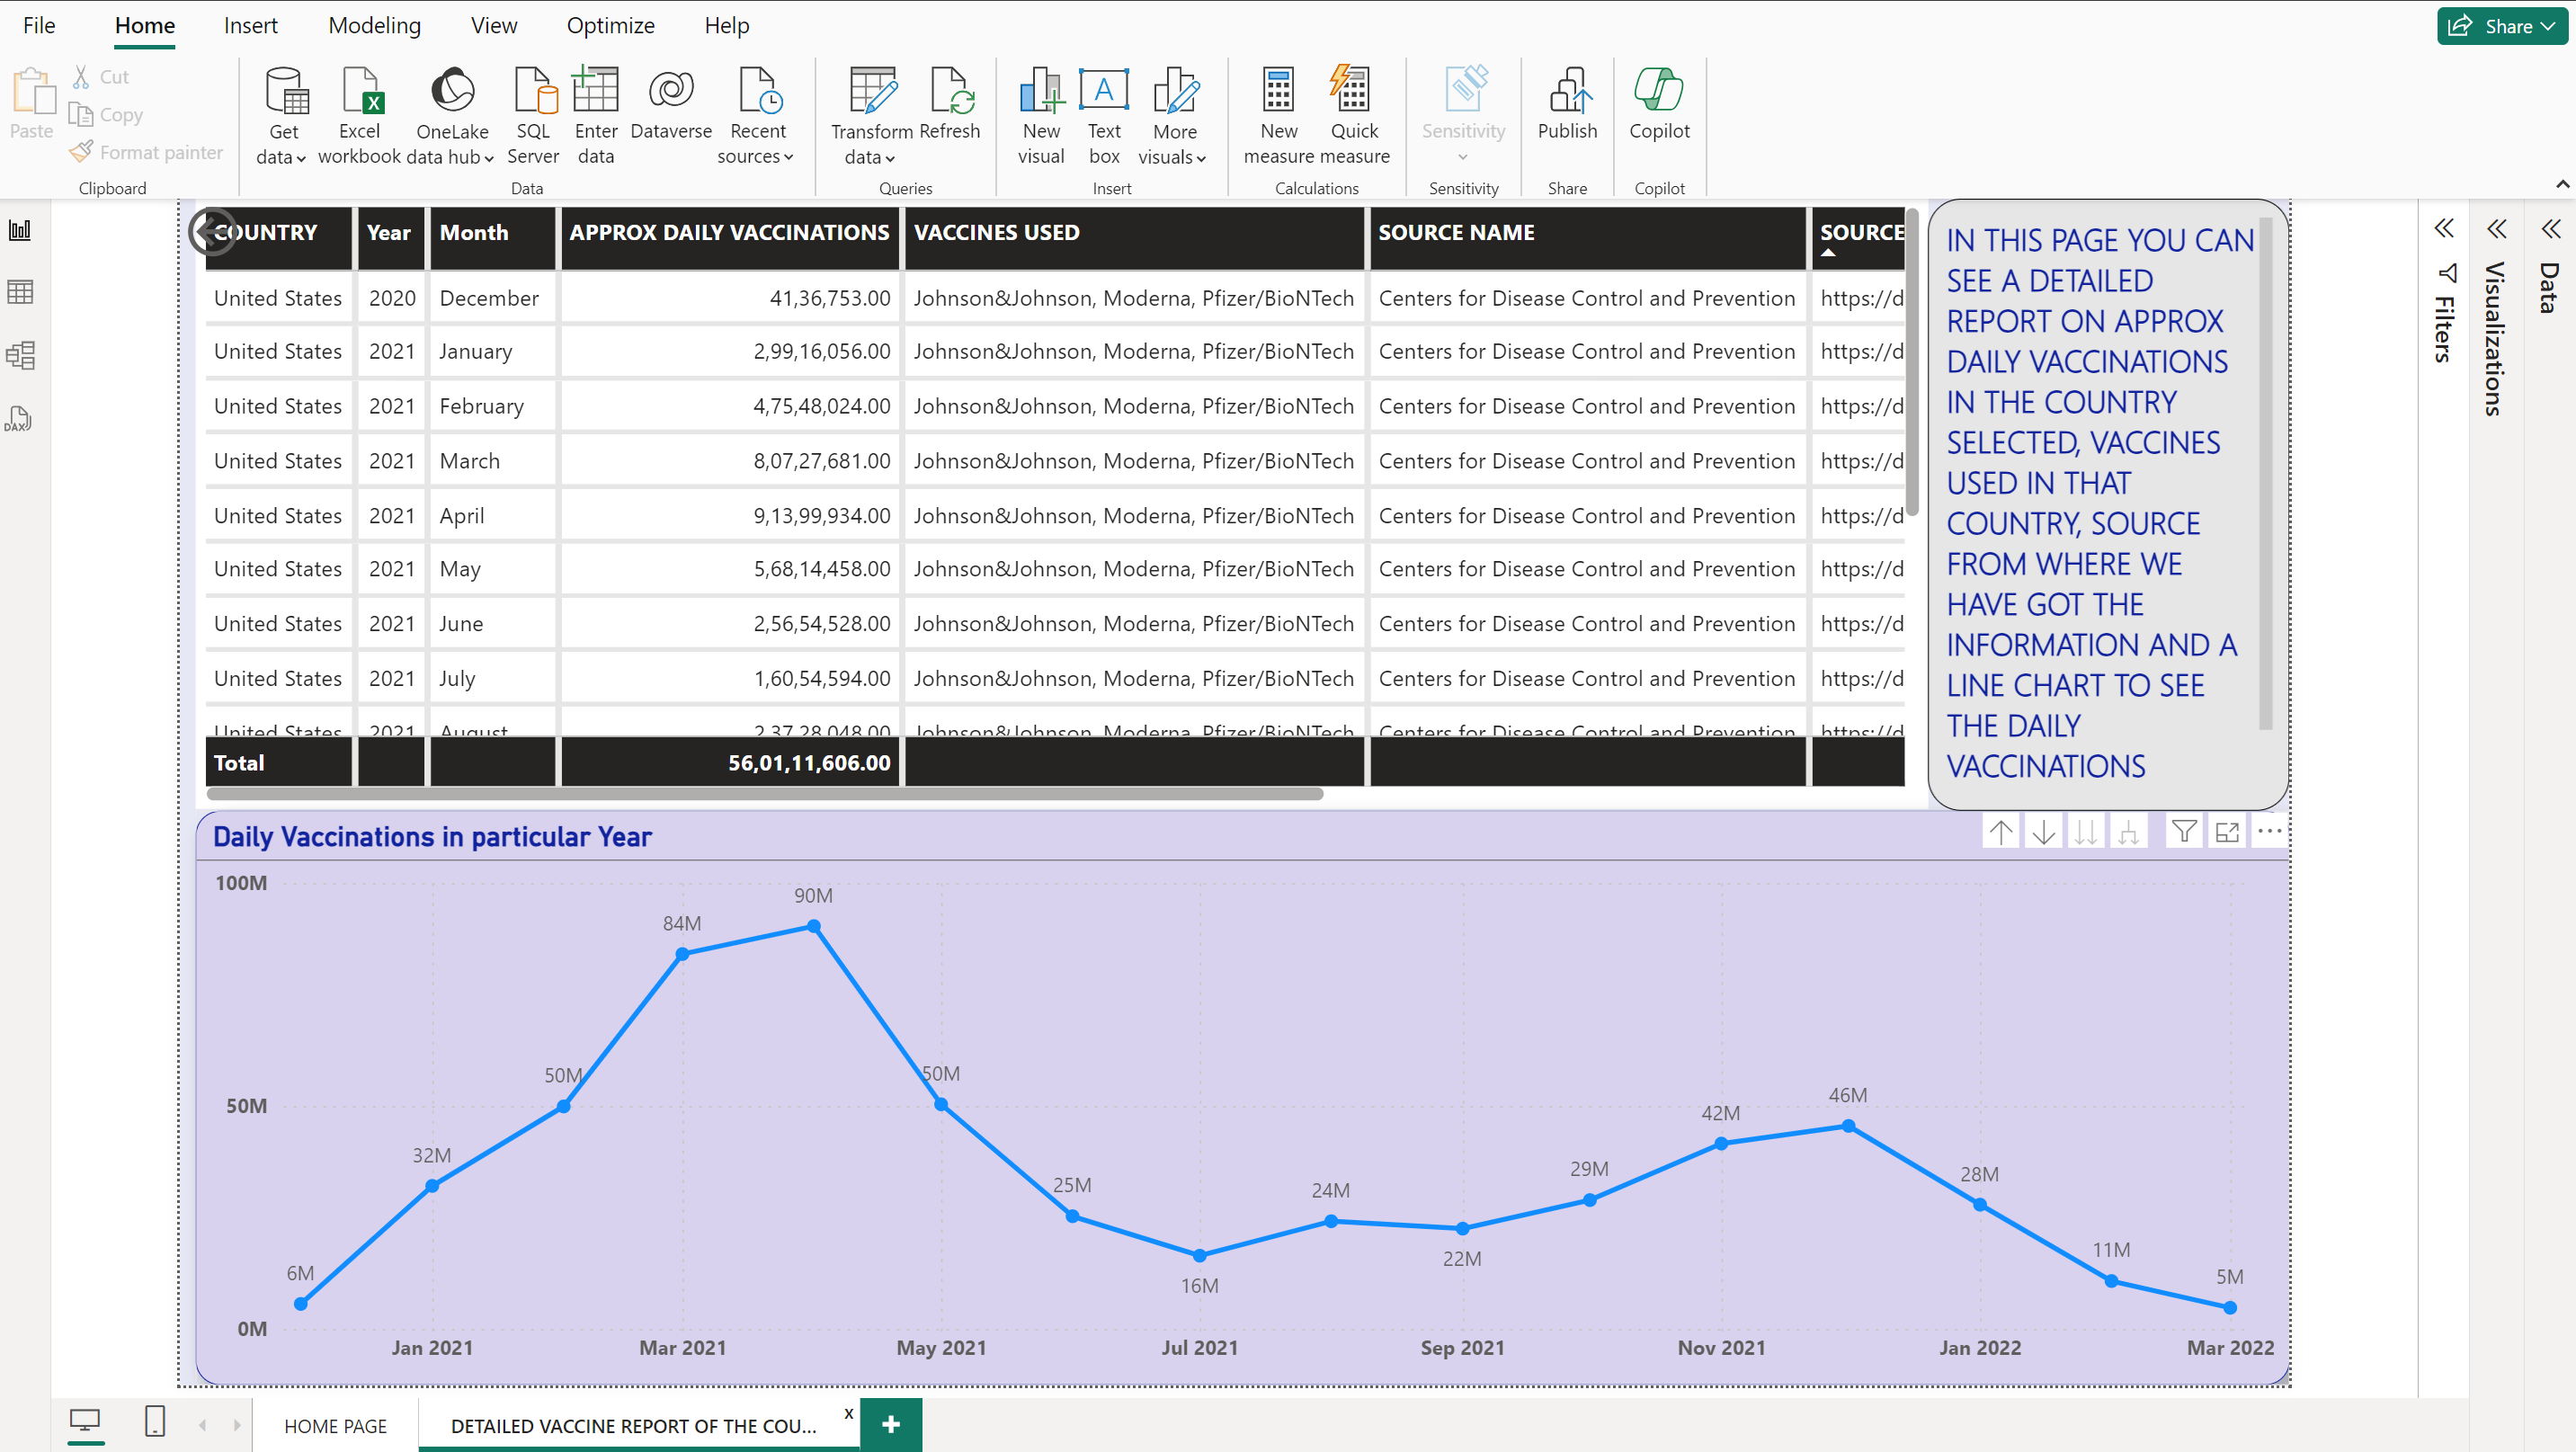

The dashboard page shown, as its layout file describes it:
{"tool":"powerbi","page":{"name":"DETAILED VACCINE REPORT OF THE COUNTRY","canvas":[1280,720],"ordinal":1},"visuals":[{"type":"tableEx","fields":{"Values":["country_vaccinations.country","country_vaccinations.date.Variation.Date Hierarchy.Year","country_vaccinations.date.Variation.Date Hierarchy.Month","Sum(country_vaccinations.daily_vaccinations)","country_vaccinations.vaccines","country_vaccinations.source_name","country_vaccinations.source_website"]},"box":[9.5,0,1051.2,370.4],"z":0},{"type":"lineChart","title":"Daily Vaccinations in particular Year","fields":{"Category":["country_vaccinations.date.Variation.Date Hierarchy.Year","country_vaccinations.date.Variation.Date Hierarchy.Month"],"Y":["Sum(country_vaccinations.daily_vaccinations_raw)"]},"box":[9.5,371.4,1270.7,348.5],"z":1000},{"type":"actionButton","box":[0,0,100,40],"z":2000},{"type":"textbox","box":[1060.7,0,219.6,371.4],"z":3000}]}

Visuals, with their boxes on the page's 1280x720 design canvas (x1, y1, x2, y2). These are canvas units, not pixel positions in the 2576x1452 screenshot, which may show the page scaled, cropped or inside an application window:
tableEx - country_vaccinations.country x country_vaccinations.date.Variation.Date Hierarchy.Year: locate(10, 0, 1061, 370)
"Daily Vaccinations in particular Year" lineChart: locate(10, 371, 1280, 720)
actionButton: locate(0, 0, 100, 40)
textbox: locate(1061, 0, 1280, 371)
